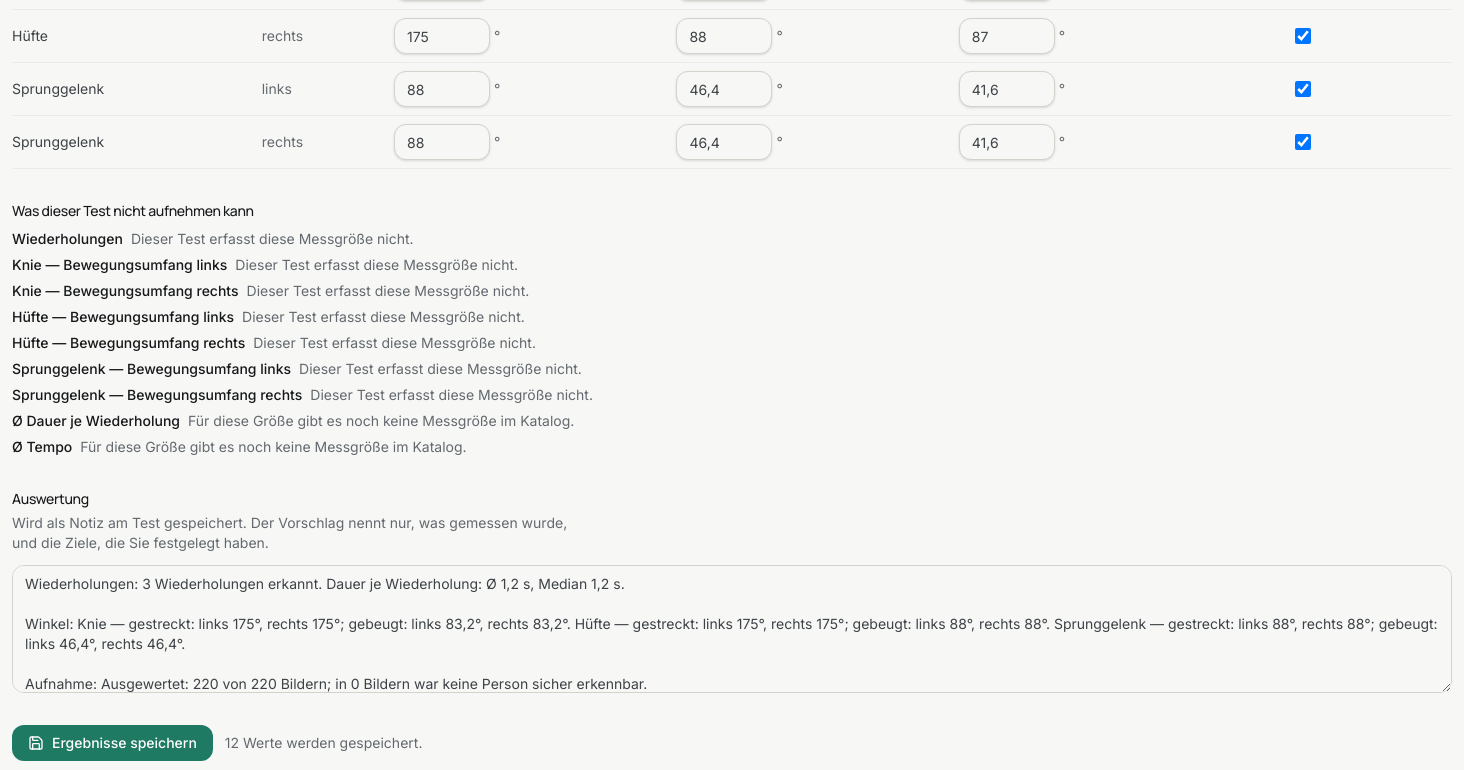
Test case: the coach decides what is kept › shows a refusal instead of claiming success
(page scrolled)
Click the button "Ergebnisse speichern".
click(112, 743)  # box [12,725,213,761]
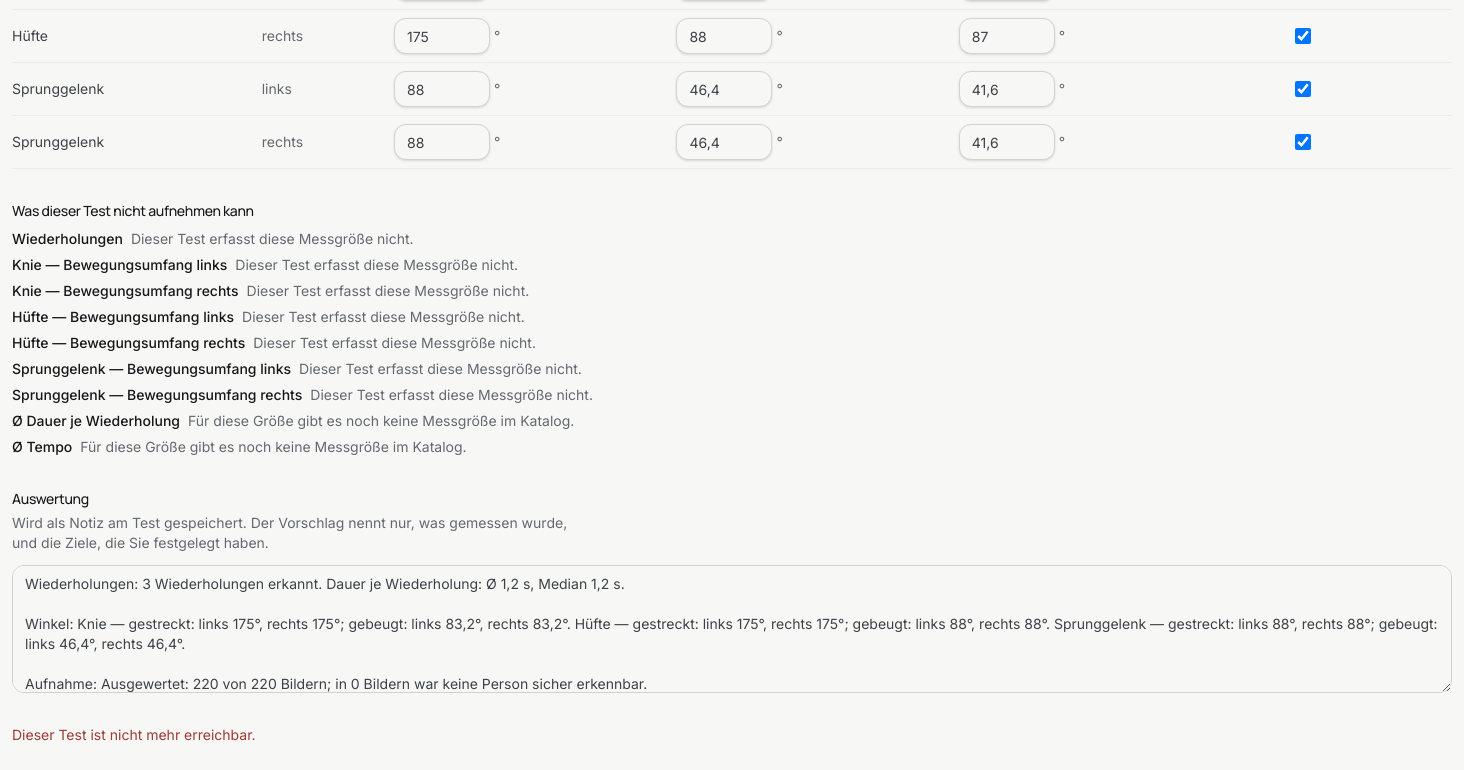
Now the message shows "nicht mehr erreichbar", box [12,726,256,743]
